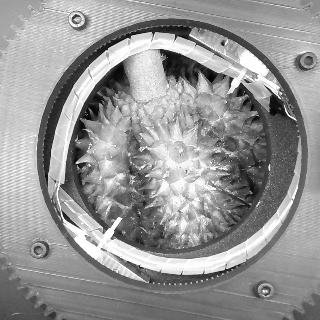base: (127, 78, 174, 108)
